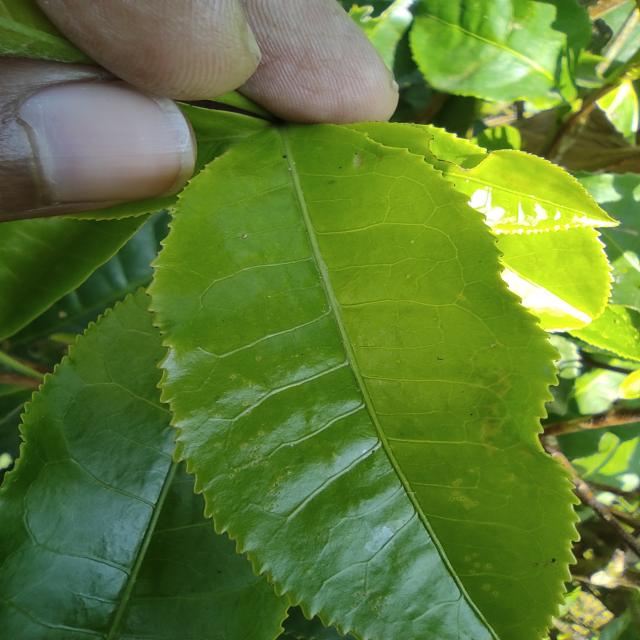Category C 4-7 days: (127, 95, 581, 640)
